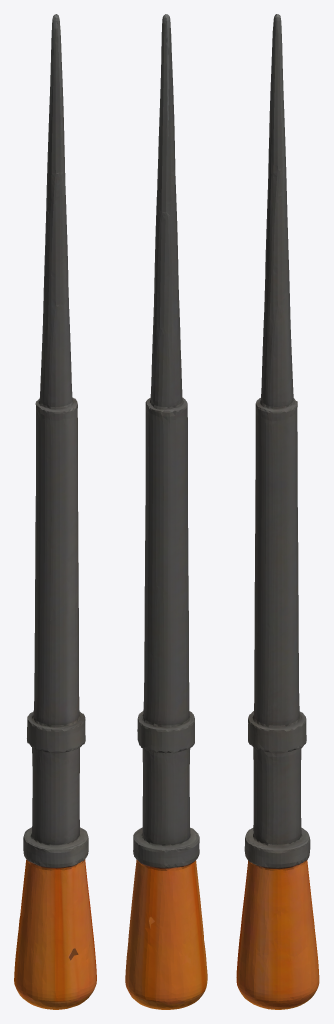
Rendered from Wand_Essence_0603082125_texture.fbx.
3 renders of one model, left to right at view 1: azimuth 90°, elevation 25°; view 2: azimuth 150°, elevation 25°; view 3: azimuth 270°, elevation 25°, orthographic.
Visible parts, largest first — view 1: temp; view 2: temp; view 3: temp.
Part boxes in pixels (x1,y1,x2,y2): temp: (14, 14, 96, 1009); temp: (125, 14, 207, 1009); temp: (236, 14, 319, 1009).
Size of the model in its own units: 15.24 by 200 by 15.27.
1 material, 1 textured.
